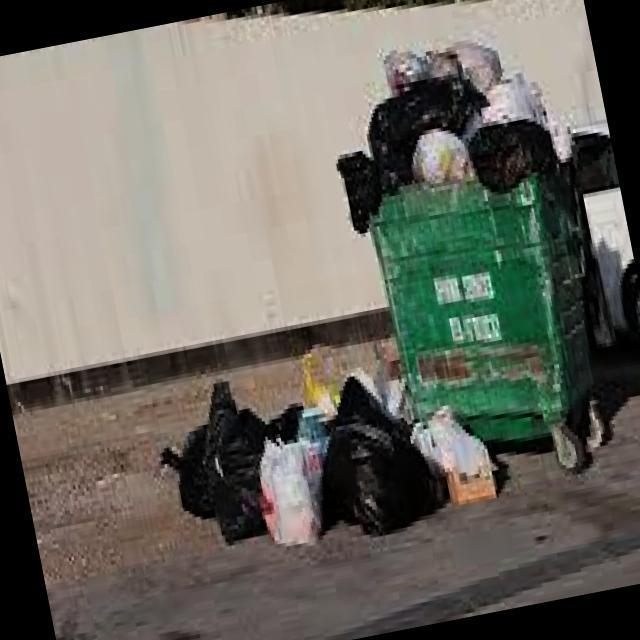garbage: (359, 149, 635, 505), (245, 422, 342, 558)
